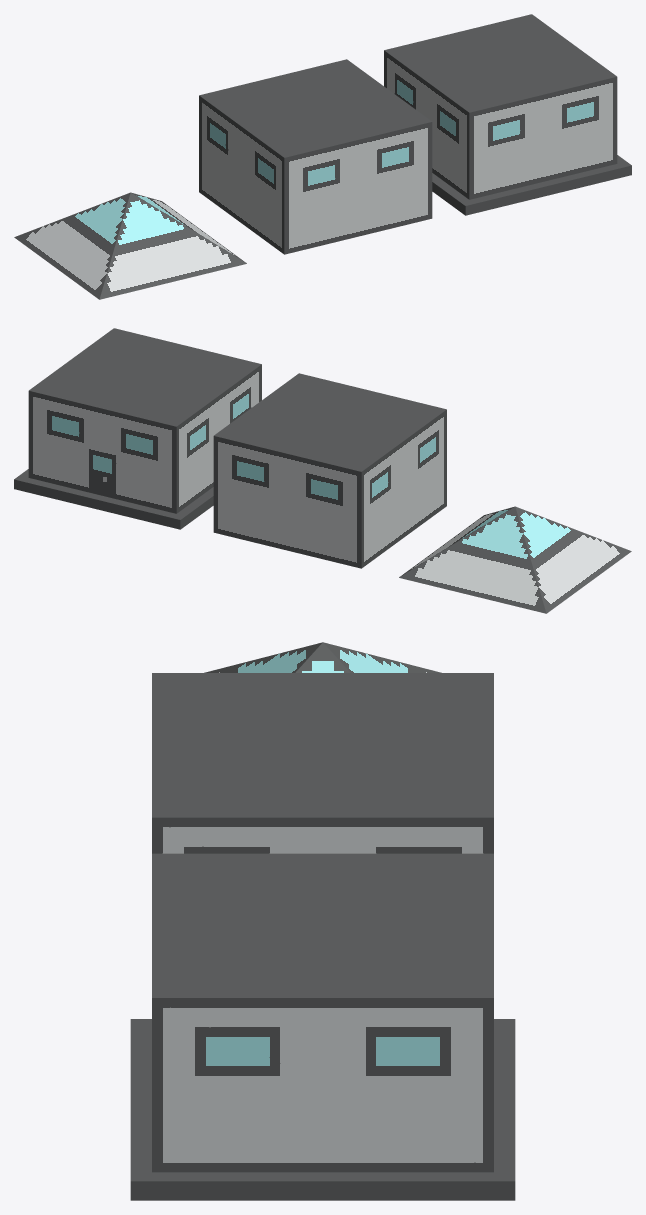
The model's file is Modular Building.glb.
3 renders of one model, top to bottom at view 1: azimuth 30°, elevation 25°; view 2: azimuth 150°, elevation 25°; view 3: azimuth 270°, elevation 25°, orthographic. The views are drawn at different scales.
Visible parts, largest first — view 1: middle_floor, ground_floor, top_floor; view 2: middle_floor, ground_floor, top_floor; view 3: ground_floor, middle_floor, top_floor.
Boxes of the visible parts, x1,y1,x2,y2 form: middle_floor: (199, 59, 432, 254); ground_floor: (384, 14, 631, 215); top_floor: (14, 192, 246, 299); middle_floor: (213, 373, 446, 568); ground_floor: (14, 328, 261, 529); top_floor: (399, 506, 631, 613); ground_floor: (130, 853, 515, 1200); middle_floor: (152, 673, 493, 853); top_floor: (204, 642, 441, 672).
Size of the model in its own units: 57 by 10 by 18.
